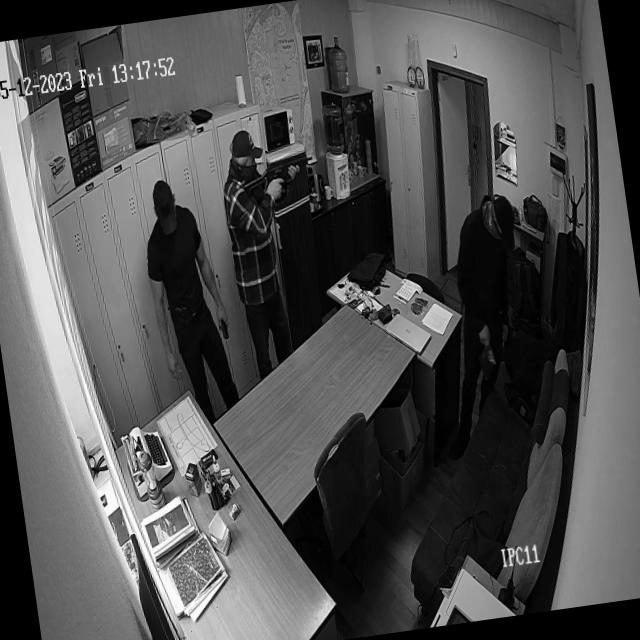gun: (240, 151, 318, 202)
person: (418, 190, 548, 464), (136, 172, 245, 434)
person with a gun: (214, 118, 344, 384)
